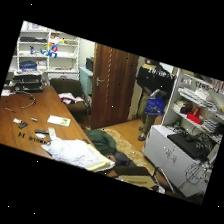person: (136, 59, 173, 141), (79, 124, 135, 167)
